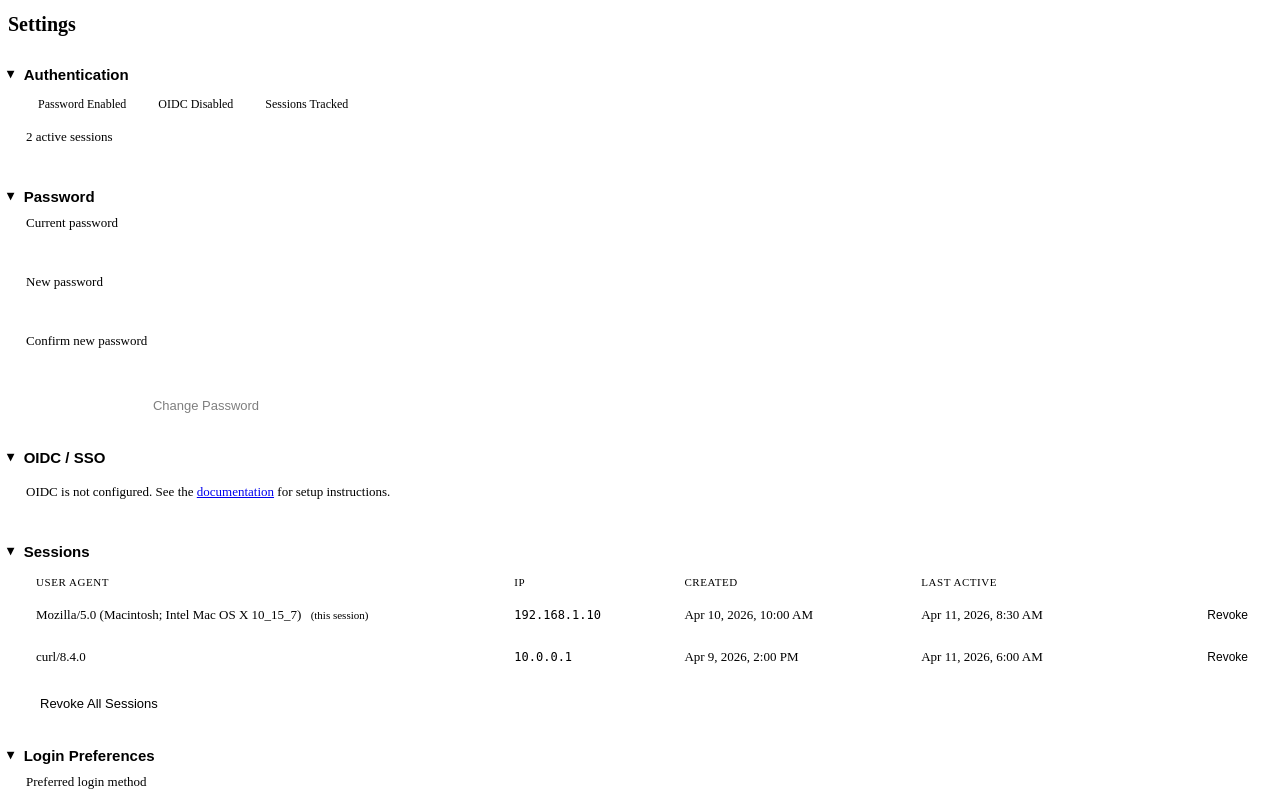
Test: Settings page › revoke all sessions button with confirm
Click the button "Revoke All Sessions" at [99, 704], box [26,690,172,717]
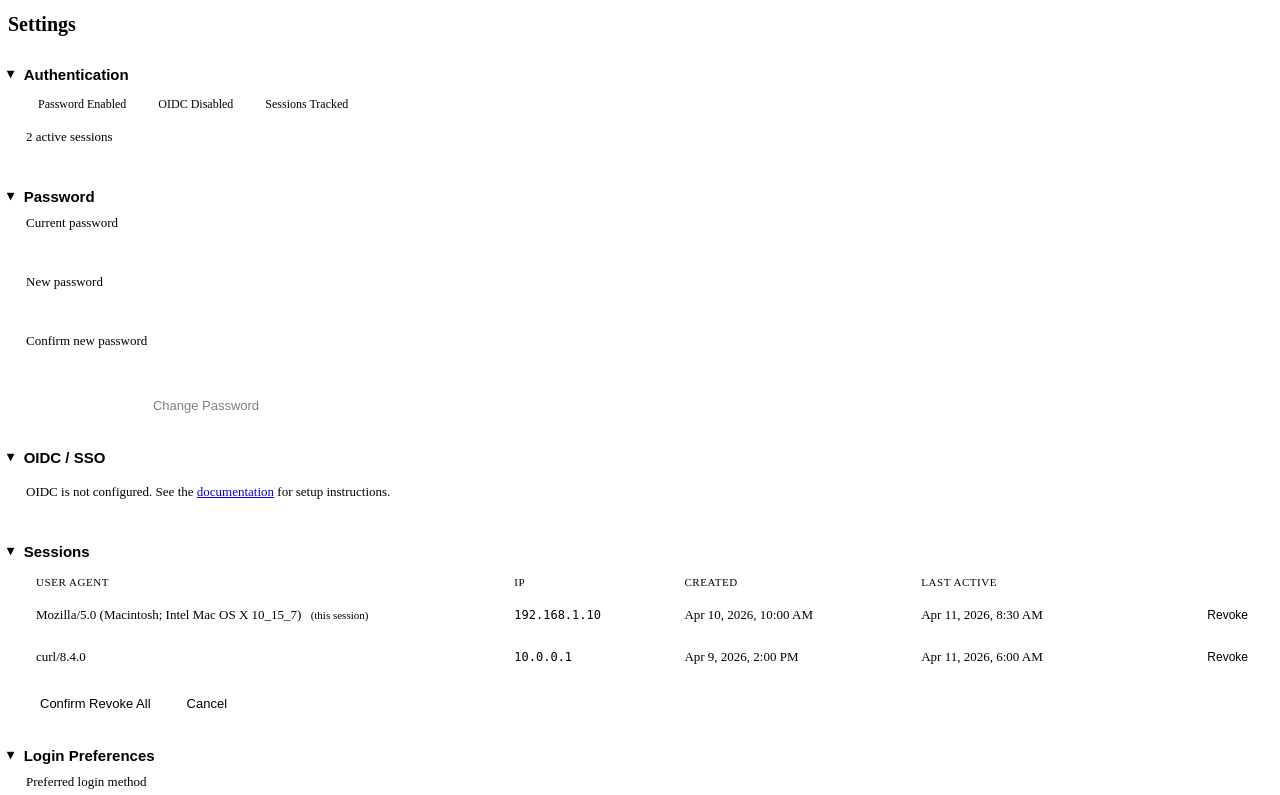
Result: the button "Confirm Revoke All" is shown
Click the button "Confirm Revoke All" at [95, 704], box [26,690,164,717]
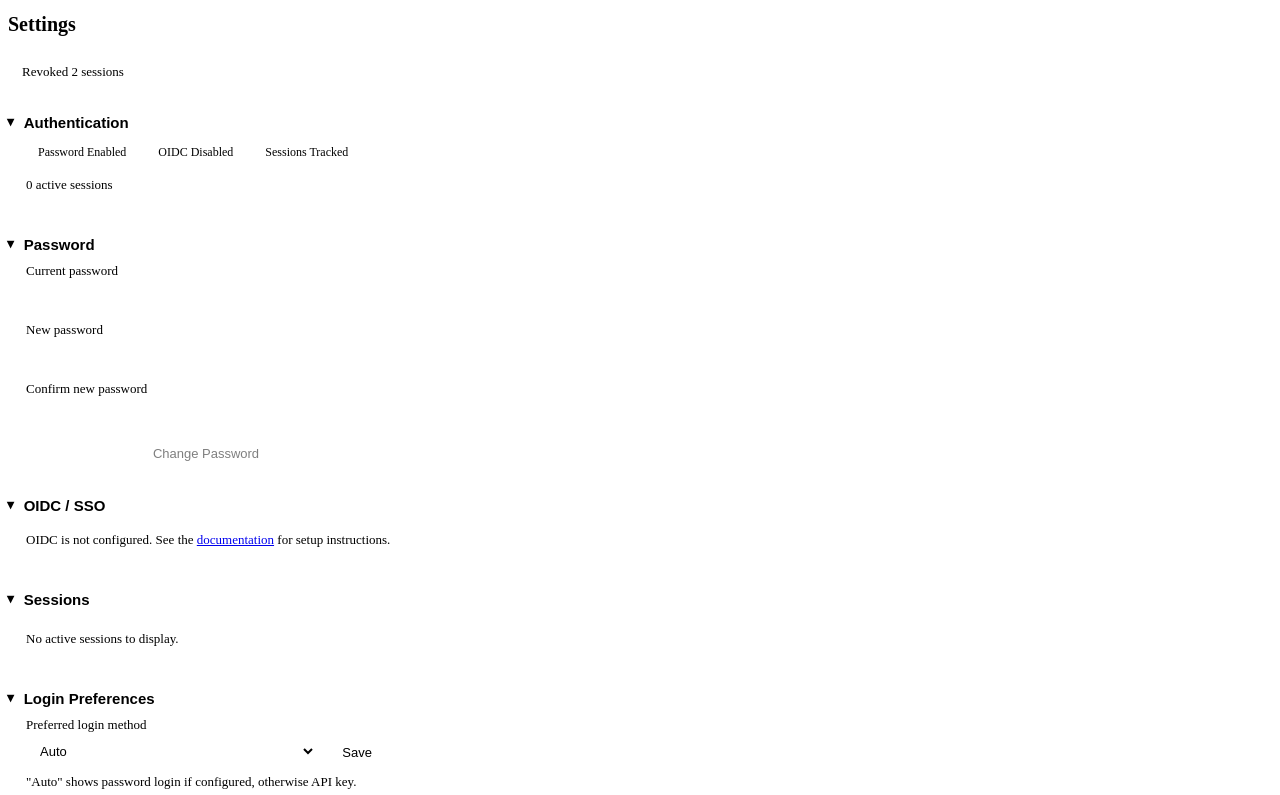
Result: the text "Revoked 2 sessions" is shown at [22,64,124,79]
